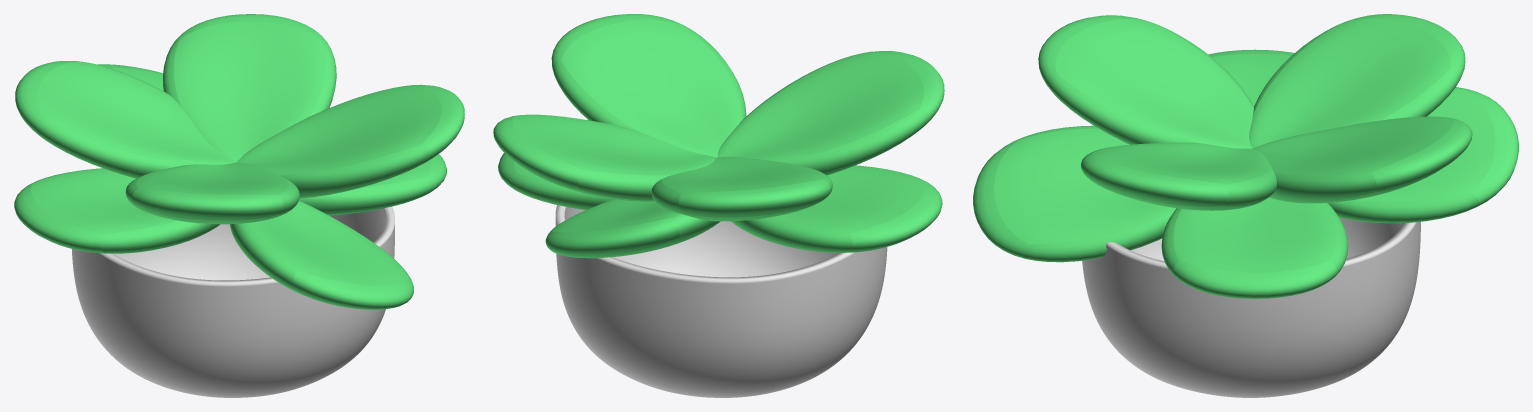
The model's file is Plant3.fbx.
3 renders of one model, left to right at view 1: azimuth 30°, elevation 25°; view 2: azimuth 150°, elevation 25°; view 3: azimuth 270°, elevation 25°, orthographic. The views are drawn at different scales.
Visible parts, largest first — view 1: FlowerPotLeaf3; view 2: FlowerPotLeaf3; view 3: FlowerPotLeaf3.
Part boxes in pixels (left/top/right/bottom): FlowerPotLeaf3: left=14, top=14, right=464, bottom=397; FlowerPotLeaf3: left=493, top=14, right=944, bottom=397; FlowerPotLeaf3: left=973, top=14, right=1518, bottom=397.
Bounding box in the file's own units: 19.24 × 11.96 × 20.84.
